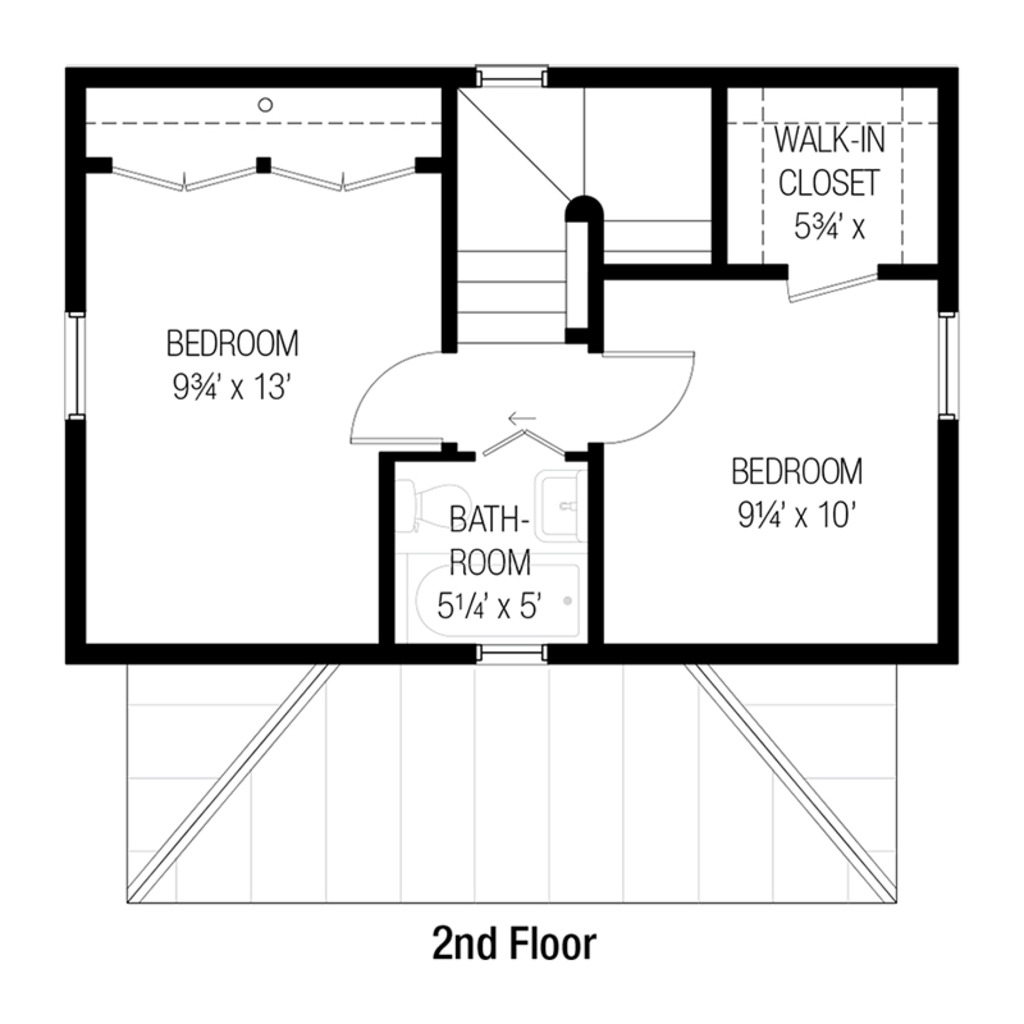wall: (61, 636, 386, 667), (597, 643, 963, 665), (58, 418, 91, 650), (935, 420, 966, 659), (721, 64, 957, 95), (436, 82, 461, 359), (928, 73, 960, 279), (58, 157, 96, 311), (700, 89, 727, 267), (544, 65, 730, 90), (375, 451, 396, 659), (60, 64, 91, 171), (589, 443, 603, 651), (386, 643, 480, 667), (603, 264, 727, 282), (721, 264, 786, 286), (385, 450, 474, 464), (542, 646, 605, 665), (878, 261, 939, 279), (413, 146, 441, 179), (930, 282, 961, 311), (567, 442, 603, 464), (89, 153, 110, 176), (253, 153, 271, 171)
